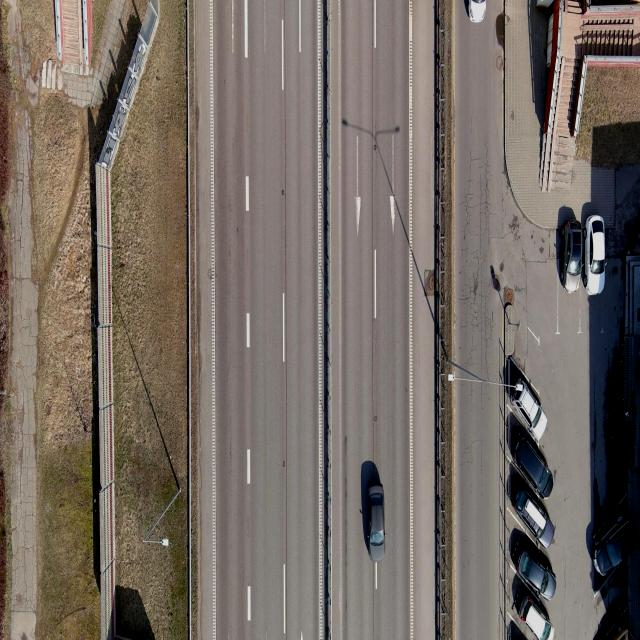Car: (357, 444, 400, 587), (493, 358, 553, 460), (509, 475, 555, 547), (511, 530, 556, 600), (592, 513, 639, 576), (514, 591, 555, 640), (557, 218, 582, 291), (583, 214, 606, 293), (593, 607, 635, 639), (466, 1, 486, 23)
